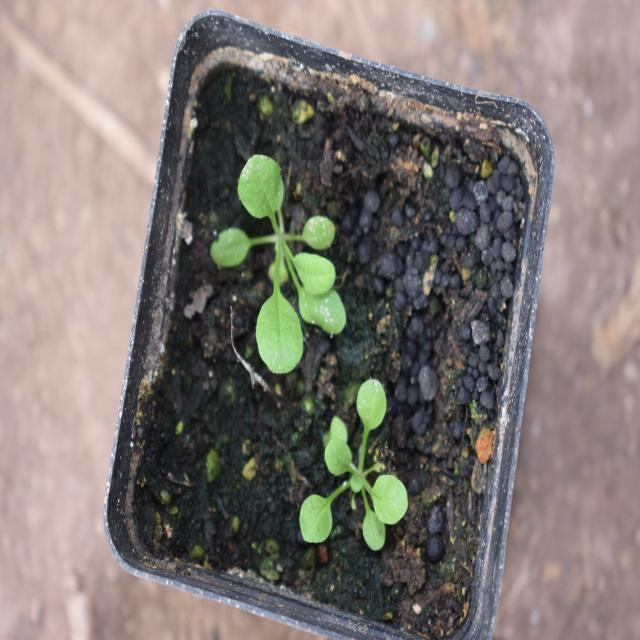Shepherd_Purse: (216, 142, 348, 385), (278, 376, 421, 564)
